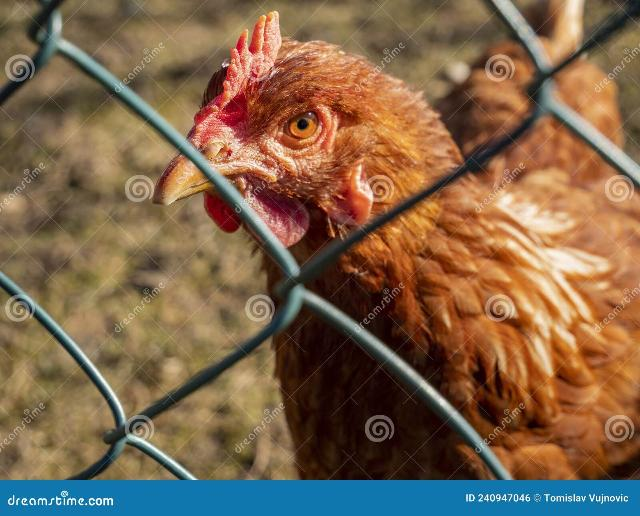Chicken: (154, 8, 640, 478)
